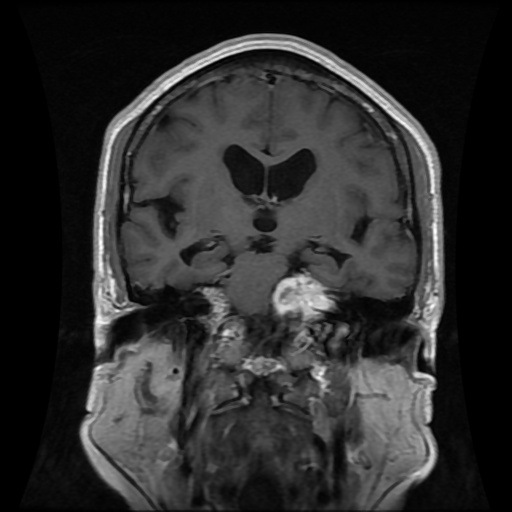meningioma: (270, 271, 334, 319)
